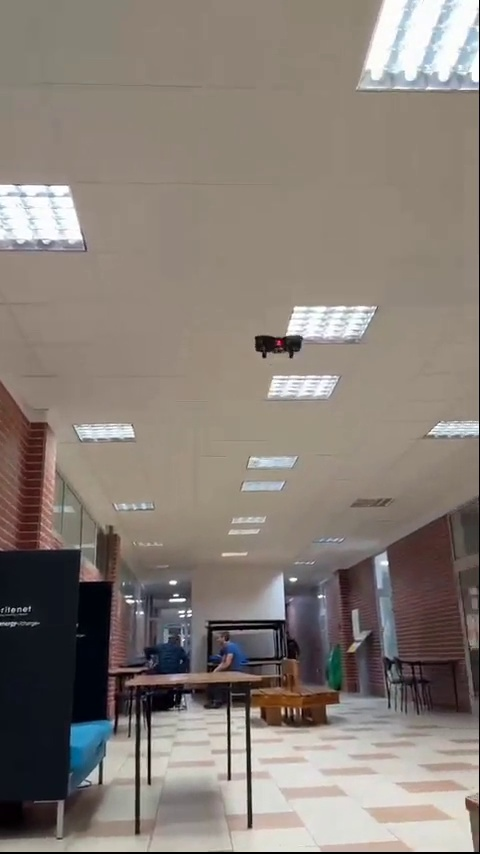drone: (257, 333, 302, 356)
no vest: (147, 625, 194, 671), (210, 631, 249, 670)
